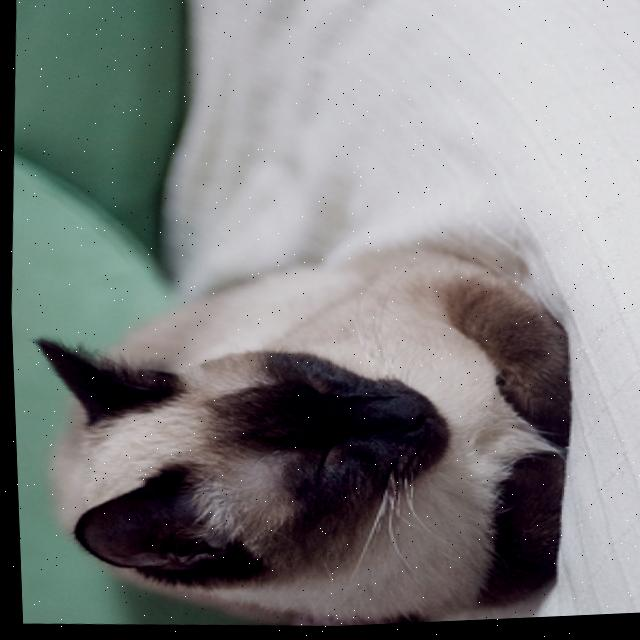Siamese: (6, 195, 591, 640)
